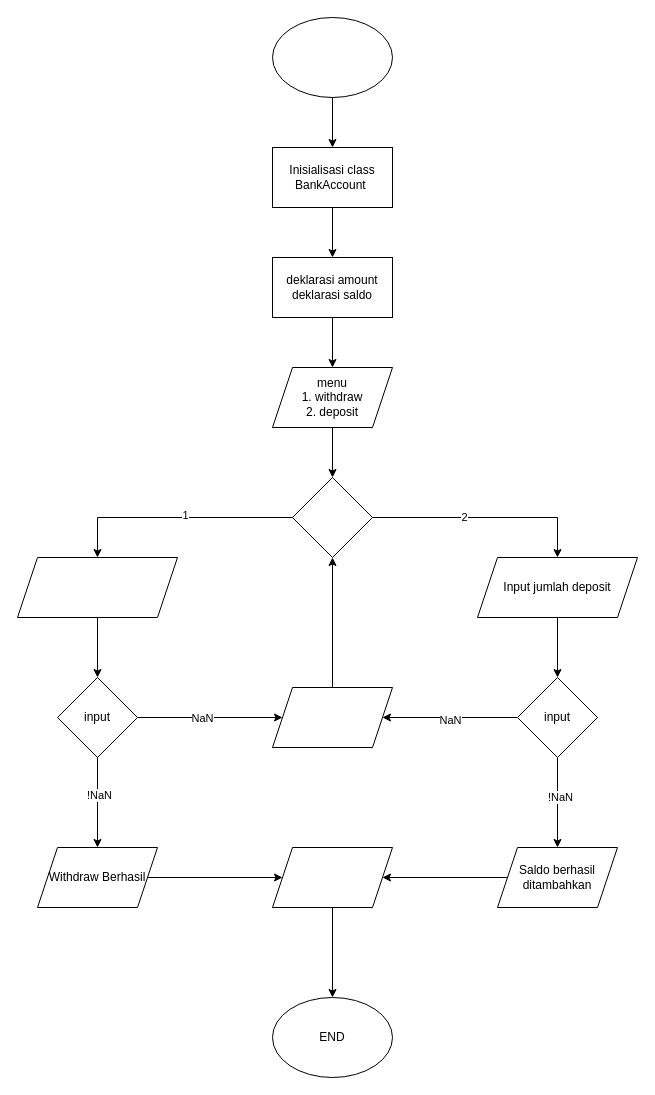
Image size: 655x1095. Some labels were removed from this diagram. Each missing label, with the box of its shape:
Error "Masukkan input yang sesuai": (272, 686, 392, 748)
Input jumlah withdraw: (16, 556, 178, 618)
pilih menu: (292, 476, 372, 558)
Sisa saldo: (272, 846, 392, 908)
START: (272, 16, 392, 98)
